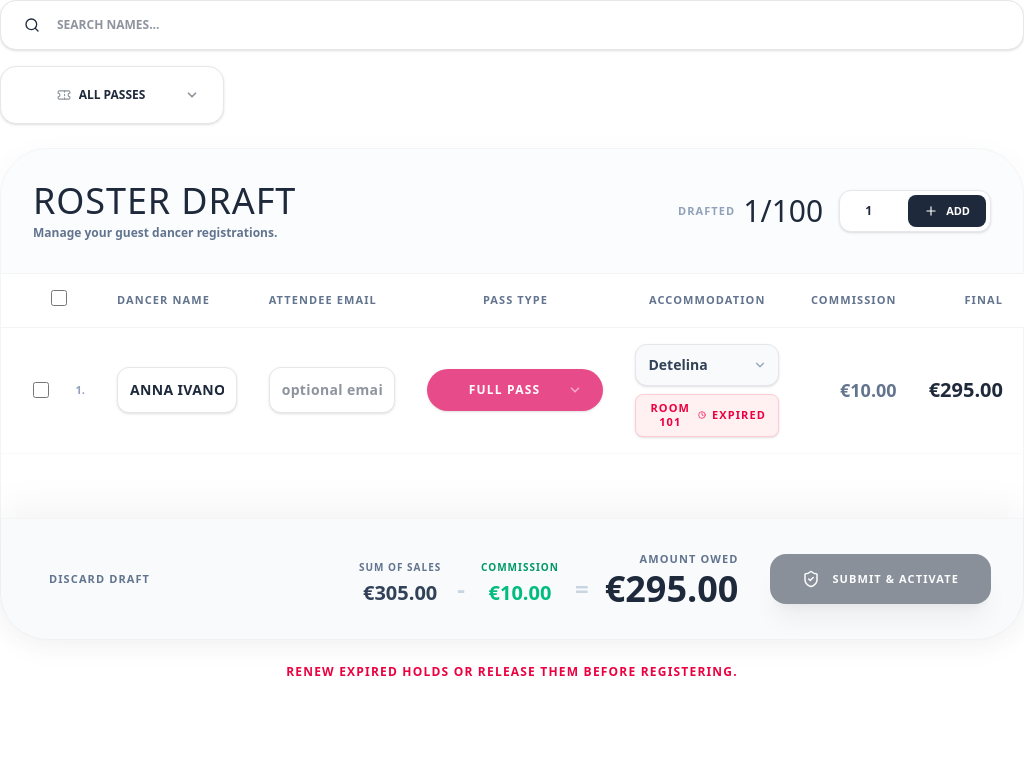
Test: compact draft table and room modal › preserves the existing hold when cancelling a different hotel's picker
Select "Kabakum" in the dropdown named "Accommodation" at (707, 364), box [636,344,779,386]
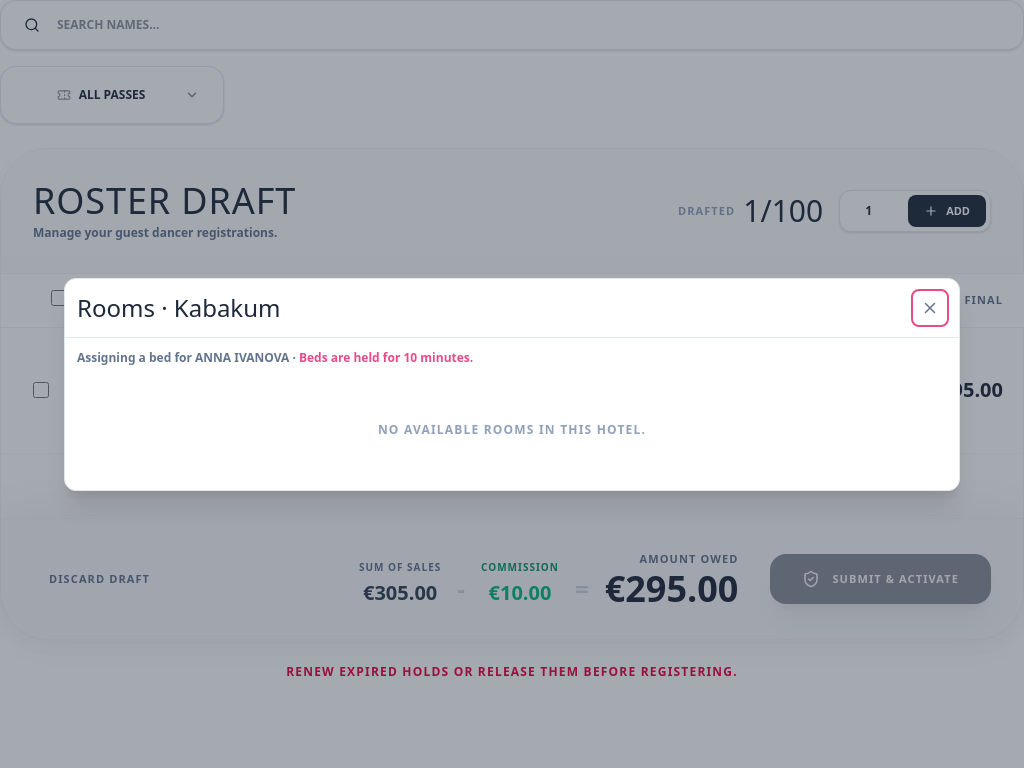
Expected: the dialog "Rooms · Kabakum" is shown, [64,278,960,490]
Press Escape
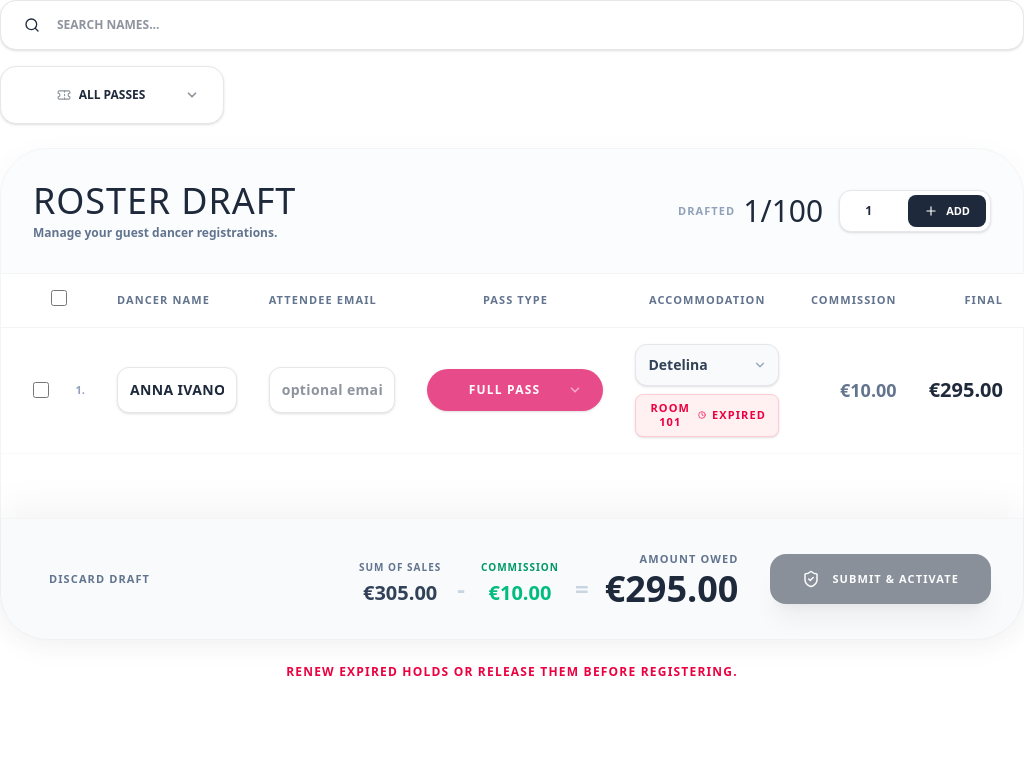
Expected: the dialog is gone
